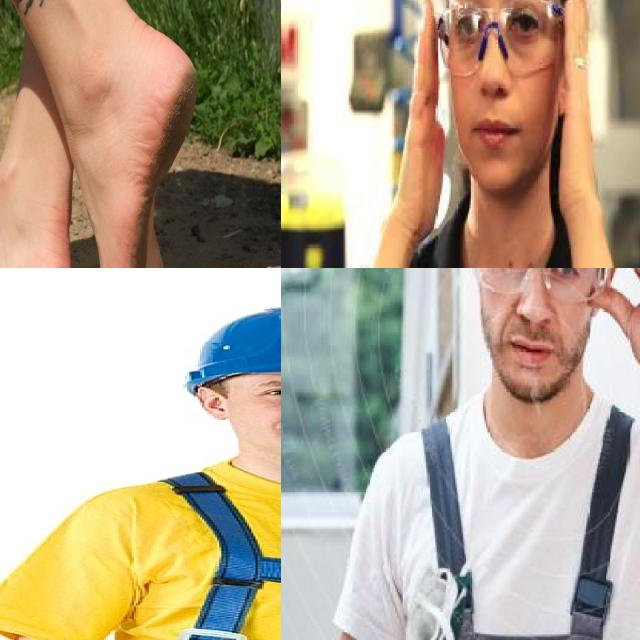Barefoots: (76, 22, 197, 268)
Harness: (96, 465, 281, 640)
No_Ear-Protection: (194, 386, 237, 419)
No_Glasses: (246, 378, 281, 407)
face_nomask: (446, 9, 551, 165), (476, 268, 598, 371)
glasses: (433, 0, 565, 84), (471, 268, 612, 305)
hand_noglove: (552, 0, 604, 226), (402, 0, 449, 231), (585, 268, 640, 369)
person: (318, 268, 640, 640), (353, 0, 640, 268)
